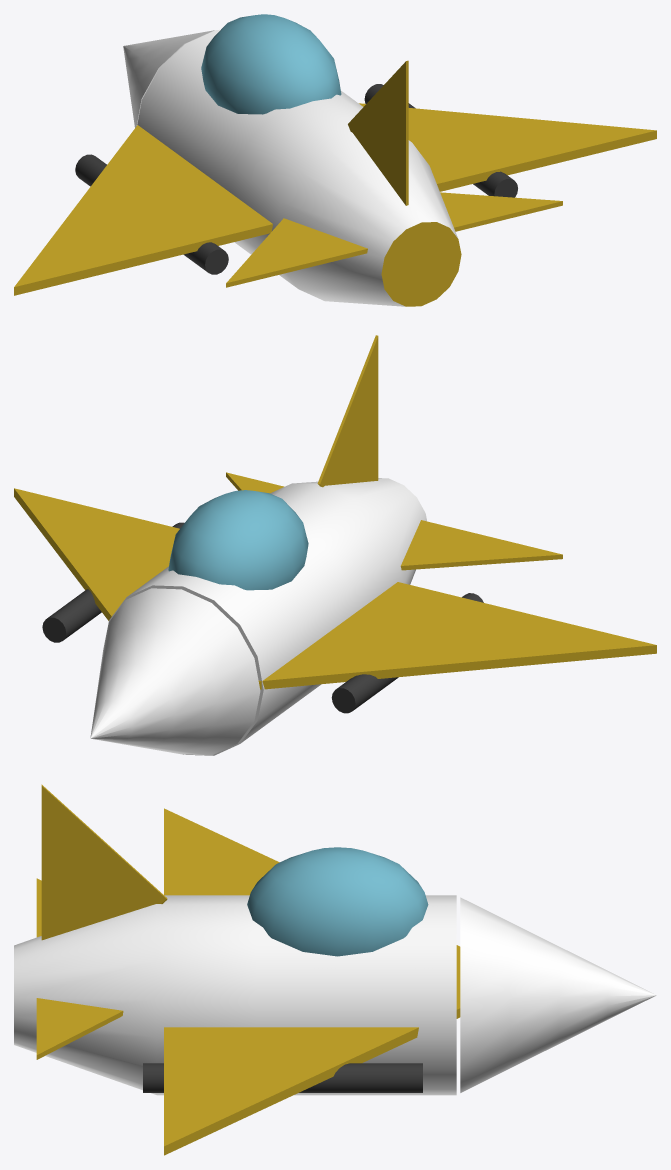
The picture shows the model from 3 angles, top to bottom: view 1: azimuth 30°, elevation 25°; view 2: azimuth 150°, elevation 25°; view 3: azimuth 270°, elevation 25°; orthographic projection. The views are drawn at different scales.
Parts seen in each view (by area): view 1: Cylinder, Polygon, Sphere, Polygon.1, Polygon.2, Cone, Cylinder.1, Cylinder.2; view 2: Polygon, Cylinder, Cone, Sphere, Polygon.1, Polygon.2, Cylinder.2, Cylinder.1; view 3: Cylinder, Polygon, Cone, Sphere, Polygon.2, Cylinder.2, Polygon.1.
Boxes of the visible parts, left/top/right/bottom form: Cylinder: left=137, top=29, right=461, bottom=306; Polygon: left=14, top=103, right=656, bottom=295; Sphere: left=201, top=14, right=341, bottom=114; Polygon.1: left=226, top=192, right=562, bottom=287; Polygon.2: left=348, top=60, right=408, bottom=205; Cone: left=123, top=30, right=214, bottom=127; Cylinder.1: left=75, top=154, right=228, bottom=274; Cylinder.2: left=364, top=84, right=517, bottom=197; Polygon: left=14, top=488, right=656, bottom=689; Cylinder: left=103, top=478, right=426, bottom=755; Cone: left=90, top=588, right=260, bottom=755; Sphere: left=168, top=490, right=308, bottom=590; Polygon.1: left=226, top=472, right=562, bottom=570; Polygon.2: left=317, top=335, right=378, bottom=487; Cylinder.2: left=42, top=522, right=184, bottom=642; Cylinder.1: left=331, top=593, right=483, bottom=713; Cylinder: left=14, top=895, right=456, bottom=1095; Polygon: left=164, top=808, right=460, bottom=1155; Cone: left=460, top=897, right=656, bottom=1092; Sphere: left=247, top=847, right=428, bottom=956; Polygon.2: left=41, top=784, right=167, bottom=940; Cylinder.2: left=143, top=1063, right=422, bottom=1092; Polygon.1: left=36, top=878, right=123, bottom=1059.
Bounding box in the file's own units: 400 × 166 × 321.
